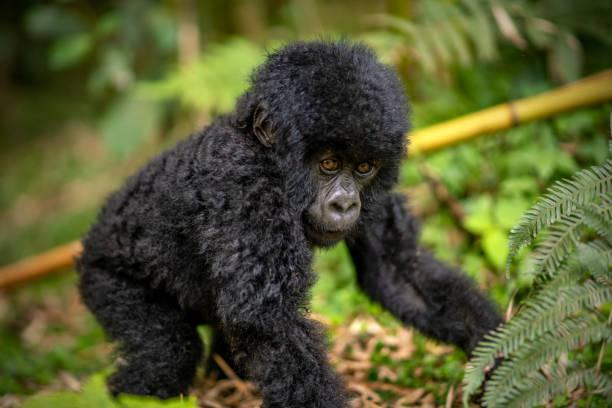goriile_montagne: (74, 22, 458, 395)
